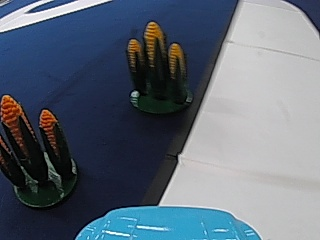corn: (1, 94, 78, 207), (125, 19, 193, 115)
